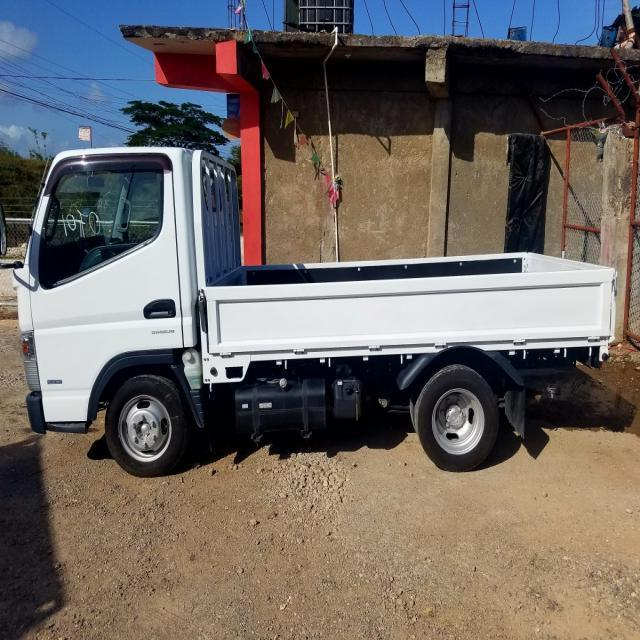truck: (16, 144, 616, 471)
